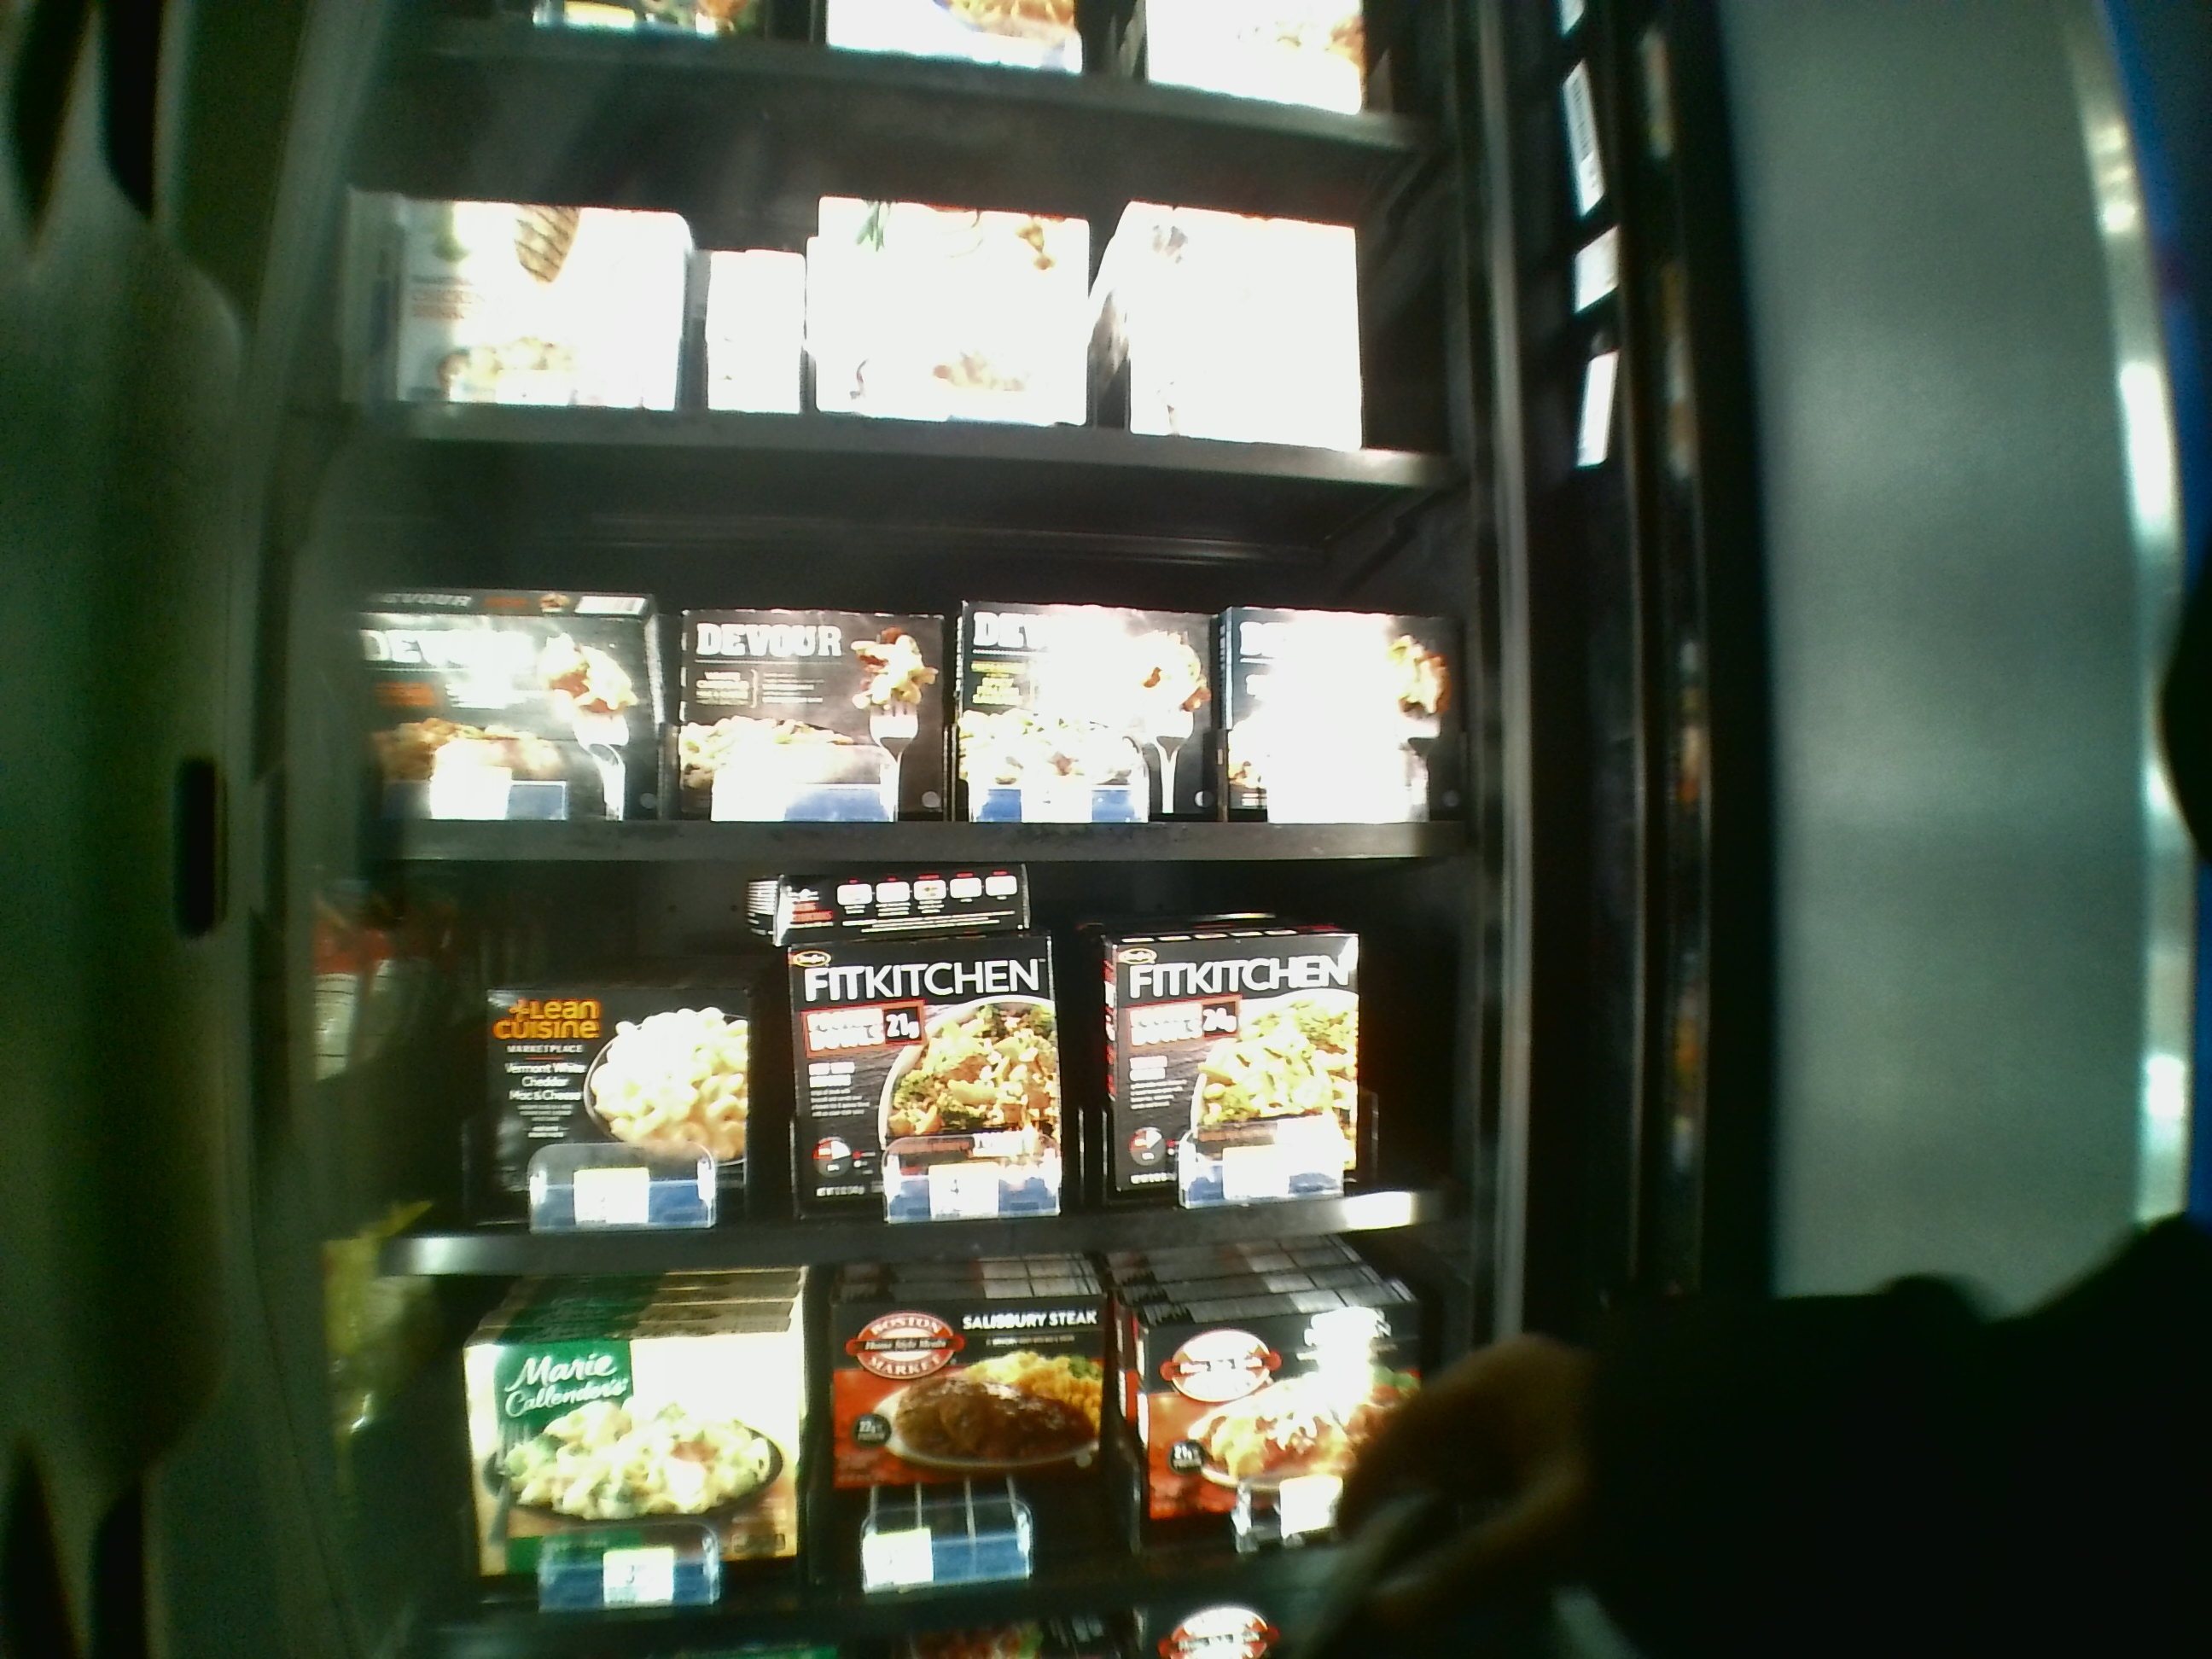shelf: (359, 437, 1463, 864), (354, 878, 1468, 1279)
